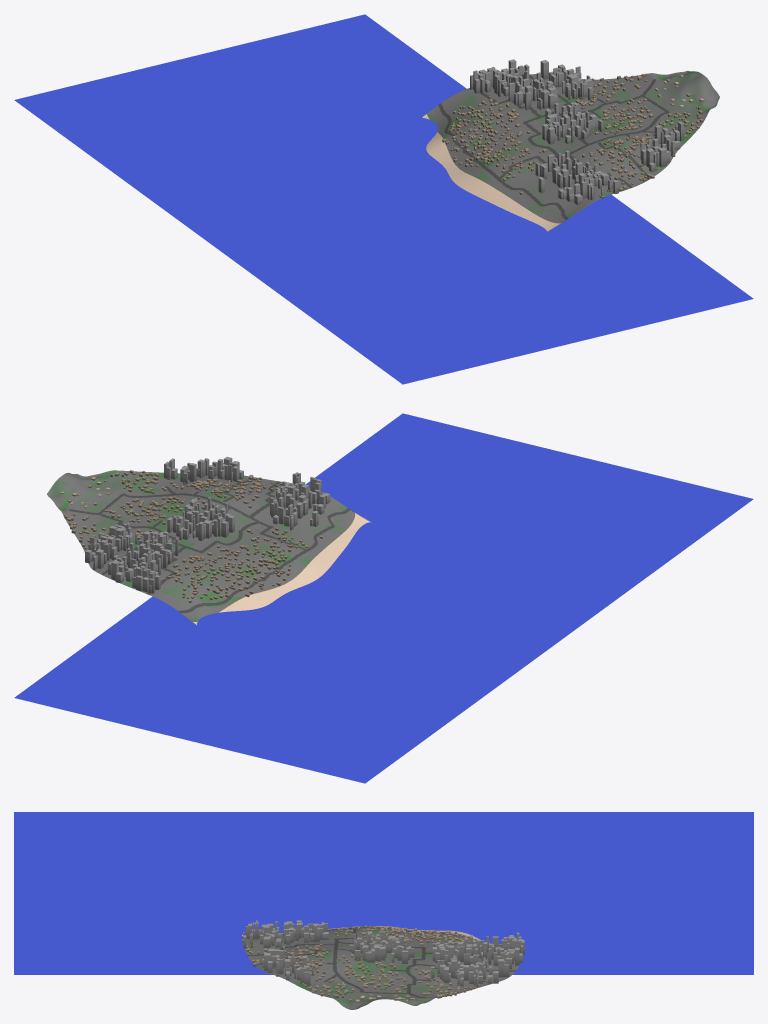
File: end_city.fbx
3 views of the same model, one above another, from view 1: azimuth 30°, elevation 25°; view 2: azimuth 150°, elevation 25°; view 3: azimuth 270°, elevation 25° (orthographic). The views are drawn at different scales.
Parts seen in each view (by area): view 1: Plane.001, Plane.002; view 2: Plane.001, Plane.002; view 3: Plane.001, Plane.002.
Part boxes in pixels (x1=…): Plane.001: x1=14, y1=14, x2=753, y2=384; Plane.002: x1=422, y1=70, x2=719, y2=231; Plane.001: x1=14, y1=413, x2=753, y2=783; Plane.002: x1=47, y1=470, x2=371, y2=624; Plane.001: x1=14, y1=812, x2=753, y2=974; Plane.002: x1=242, y1=926, x2=525, y2=1009.
Bounding box in the file's own units: 865 × 97.84 × 1173.
